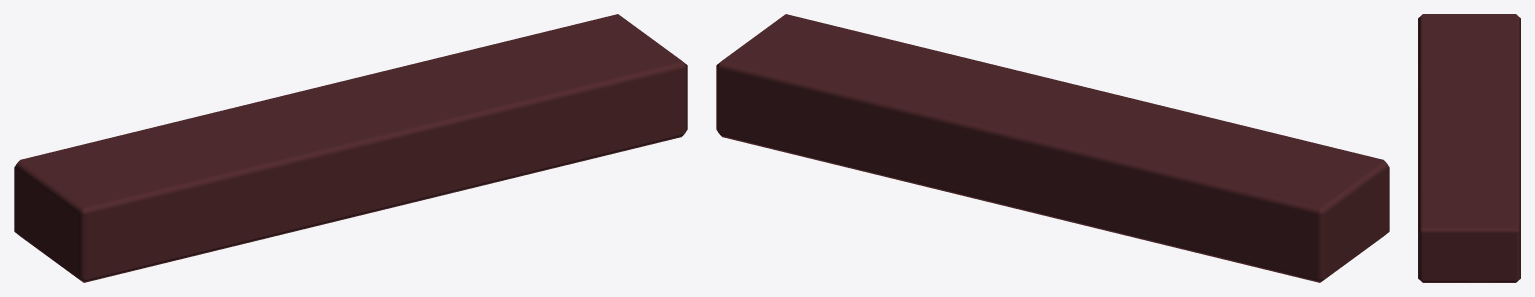
The model's file is living-cave-cap.25785c72.glb.
The picture shows the model from 3 angles, left to right: view 1: azimuth 30°, elevation 25°; view 2: azimuth 150°, elevation 25°; view 3: azimuth 270°, elevation 25°; orthographic projection. The views are drawn at different scales.
Parts seen in each view (by area): view 1: body; view 2: body; view 3: body.
Part boxes in pixels (x1,y1,x2,y2): body: (14, 14, 687, 282); body: (716, 14, 1389, 282); body: (1418, 14, 1520, 282).
Size of the model in its own units: 1 by 0.12 by 0.2.
